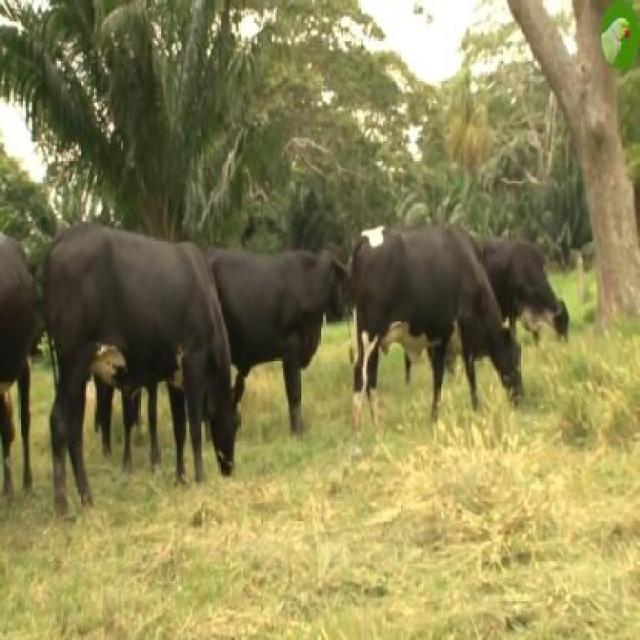Cow: (45, 231, 238, 511), (349, 228, 525, 443), (232, 245, 348, 440)
